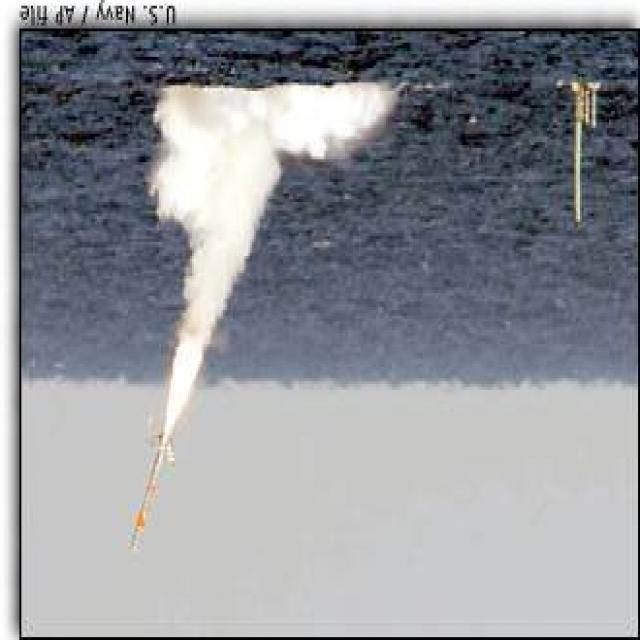missile: (126, 425, 172, 571), (568, 92, 586, 230)
